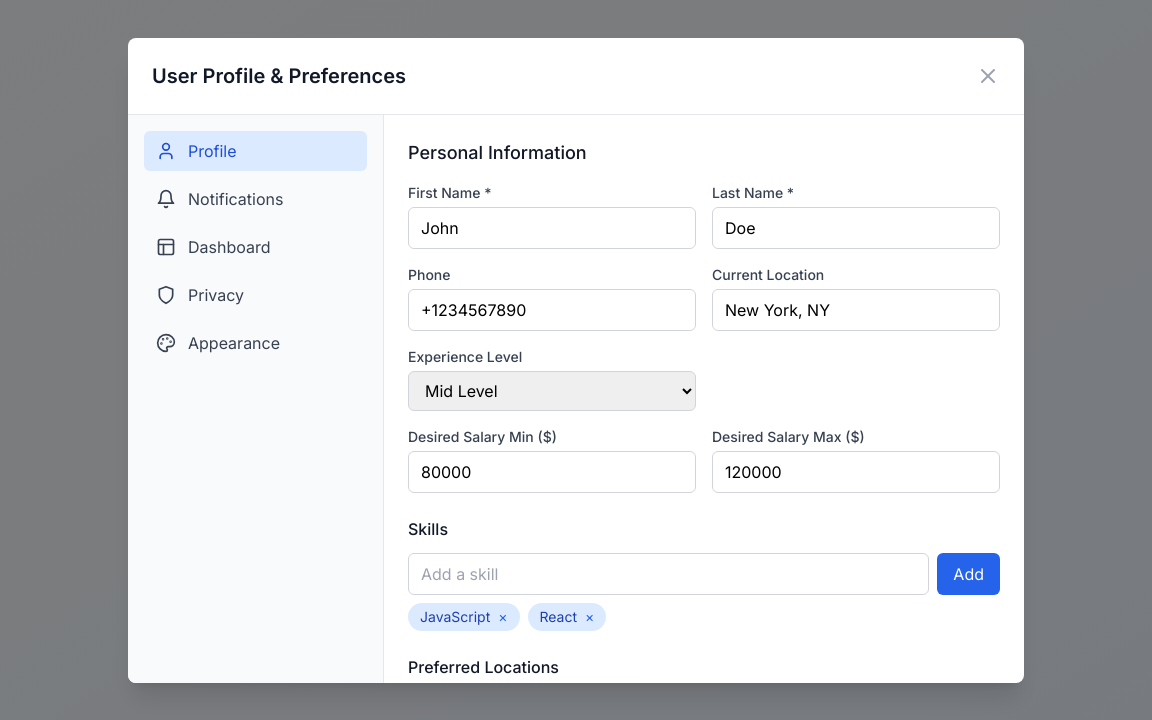
Test case: UserProfileModal › allows switching between tabs
Click on Notifications tab
Step 1. Click the button "Notifications" → (256, 198), box [144,178,367,218]
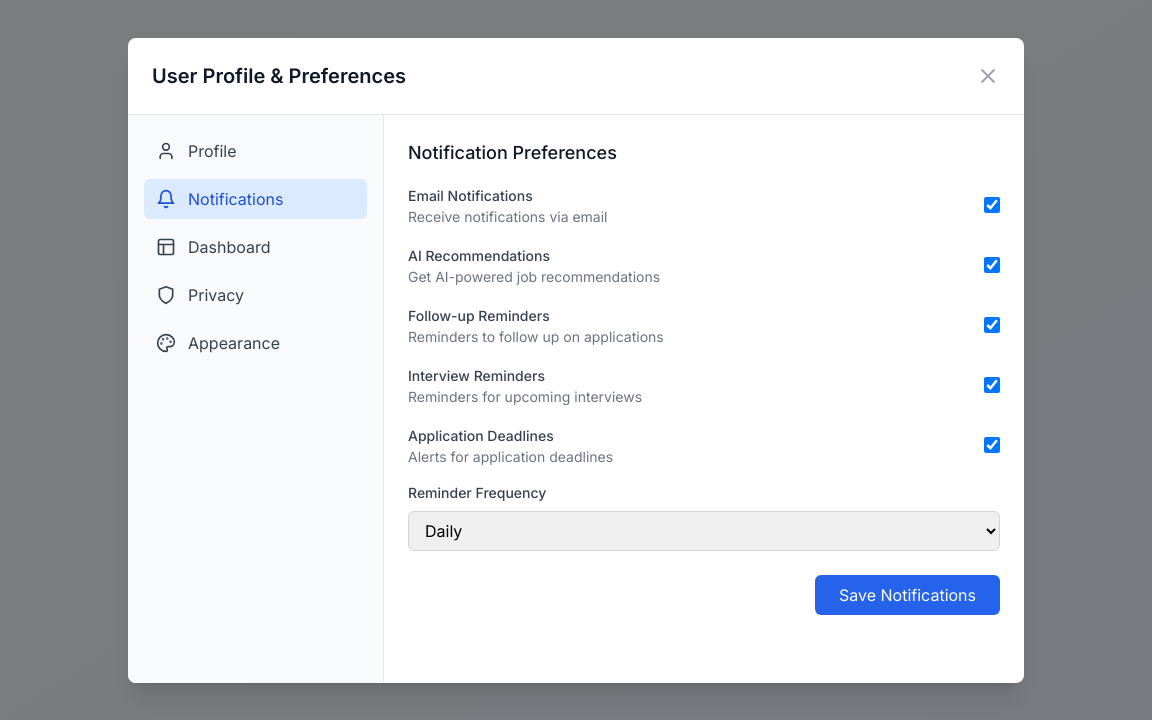
expect the heading "Notification Preferences" is shown: met, box [408,142,617,162]
Click on Dashboard tab
Step 2. Click the button "Dashboard" → (256, 246), box [144,226,367,266]
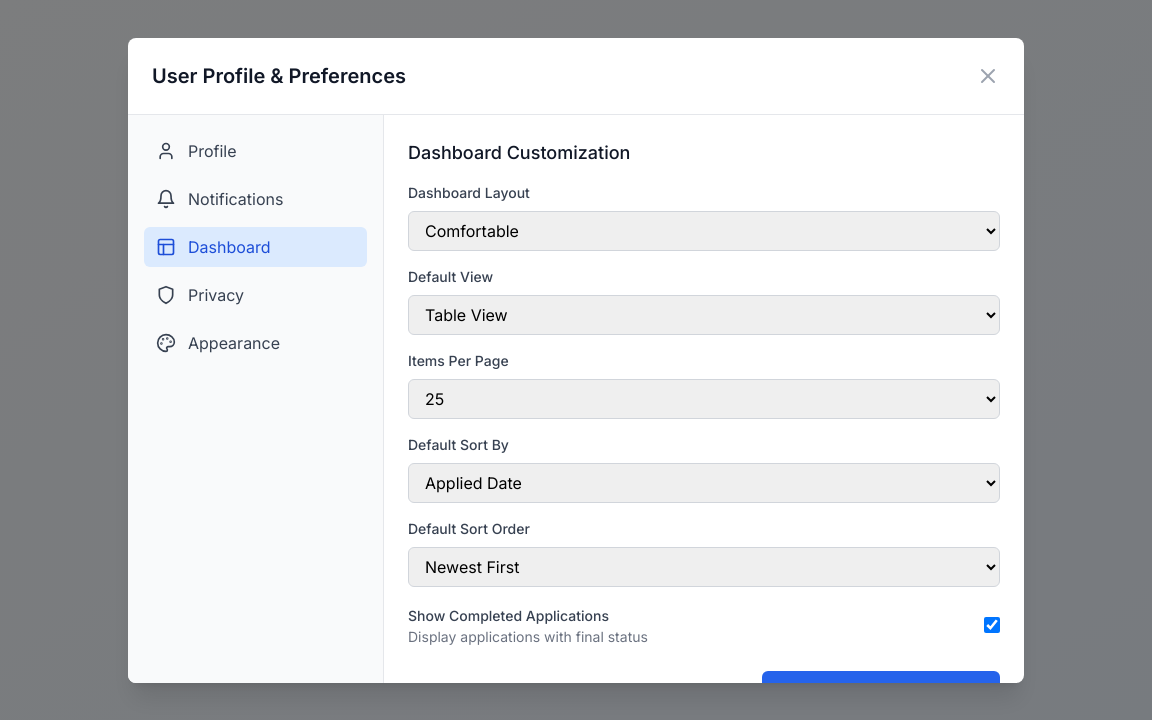
expect the heading "Dashboard Customization" is shown: met, box [408,142,630,162]
Click on Privacy tab
Step 3. Click the button "Privacy" → (256, 294), box [144,274,367,314]
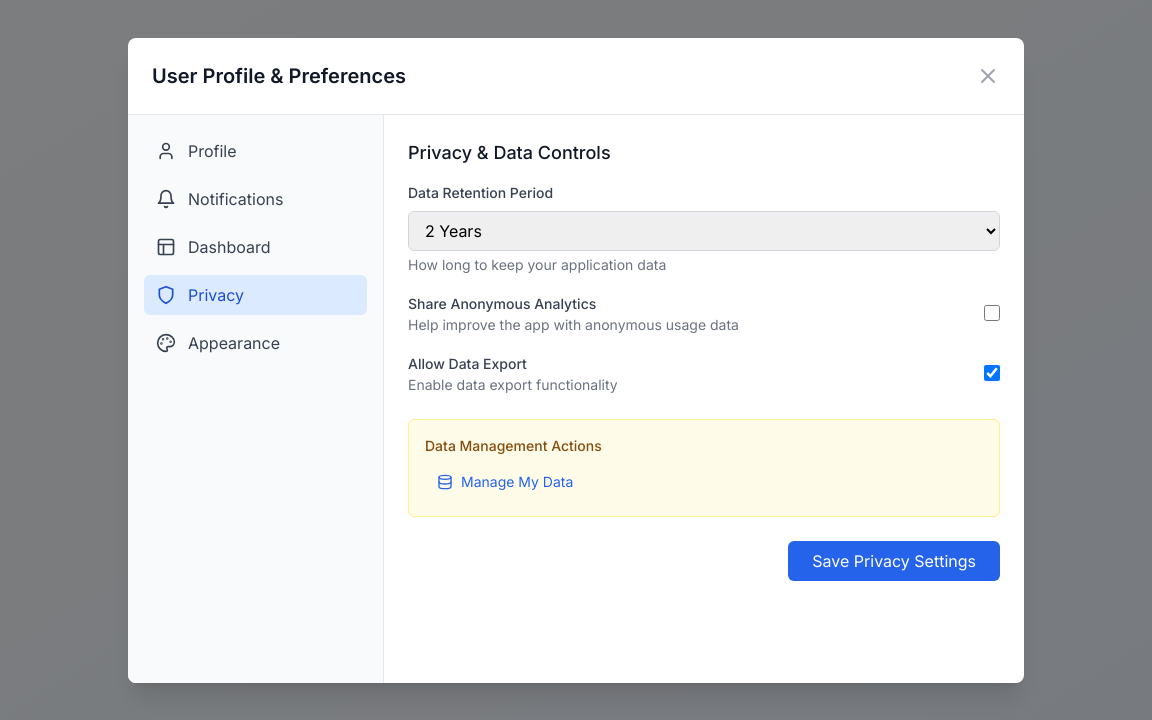
expect the heading "Privacy & Data Controls" is shown: met, box [408,142,611,162]
Click on Appearance tab
Step 4. Click the button "Appearance" → (256, 342), box [144,322,367,362]
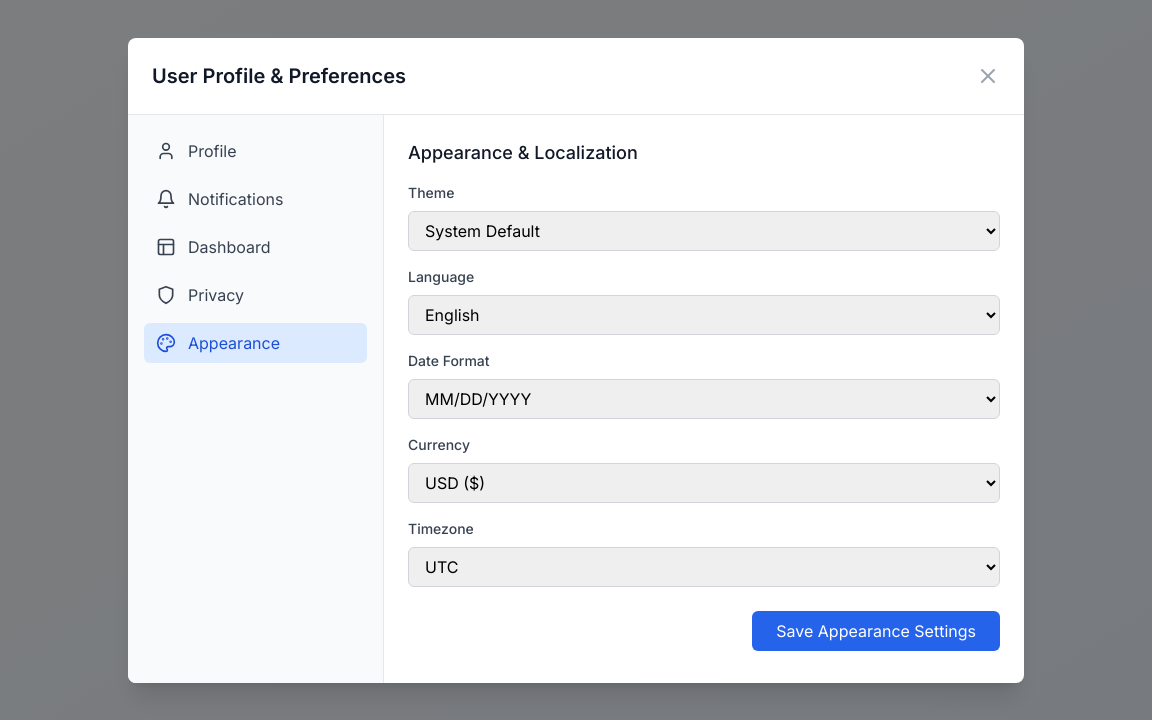
expect the heading "Appearance & Localization" is shown: met, box [408,142,638,162]
